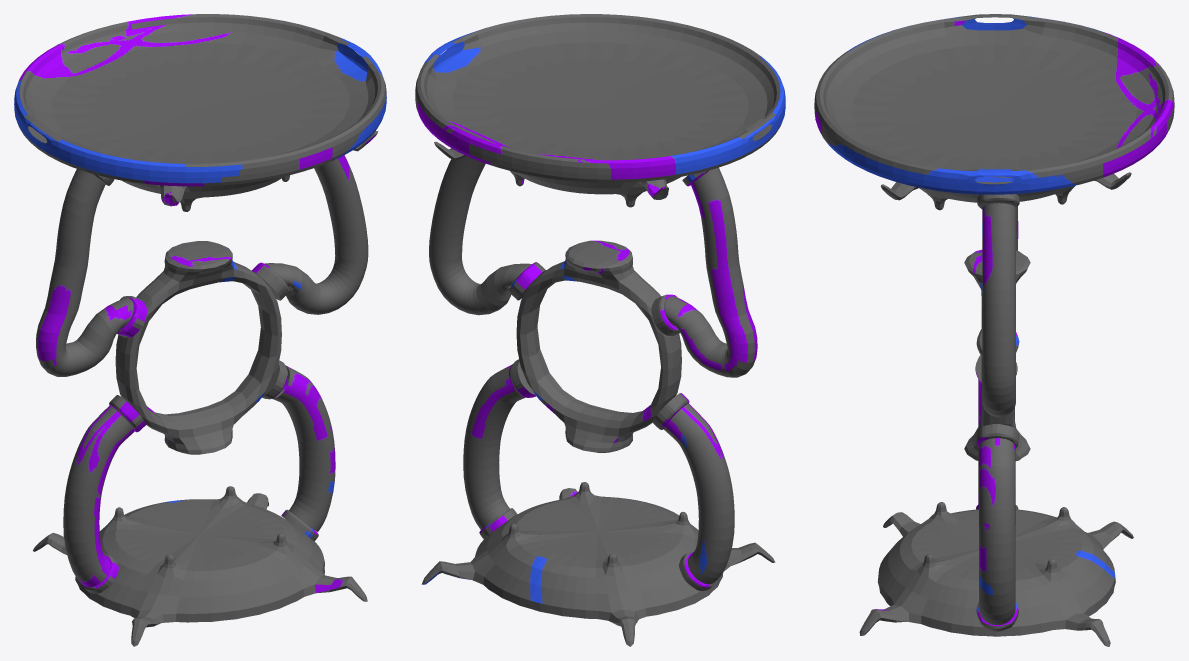
The model's file is center_platform_IMPROVED_joined.fbx.
3 views of the same model, side by side, from view 1: azimuth 30°, elevation 25°; view 2: azimuth 150°, elevation 25°; view 3: azimuth 270°, elevation 25° (orthographic).
Parts seen in each view (by area): view 1: portal; view 2: portal; view 3: portal.
Boxes of the visible parts, <box> form: portal: <box>14,14,386,646</box>; portal: <box>415,14,785,646</box>; portal: <box>814,14,1174,646</box>.
Bounding box in the file's own units: 404 × 570 × 376.
1 material, 1 textured.
